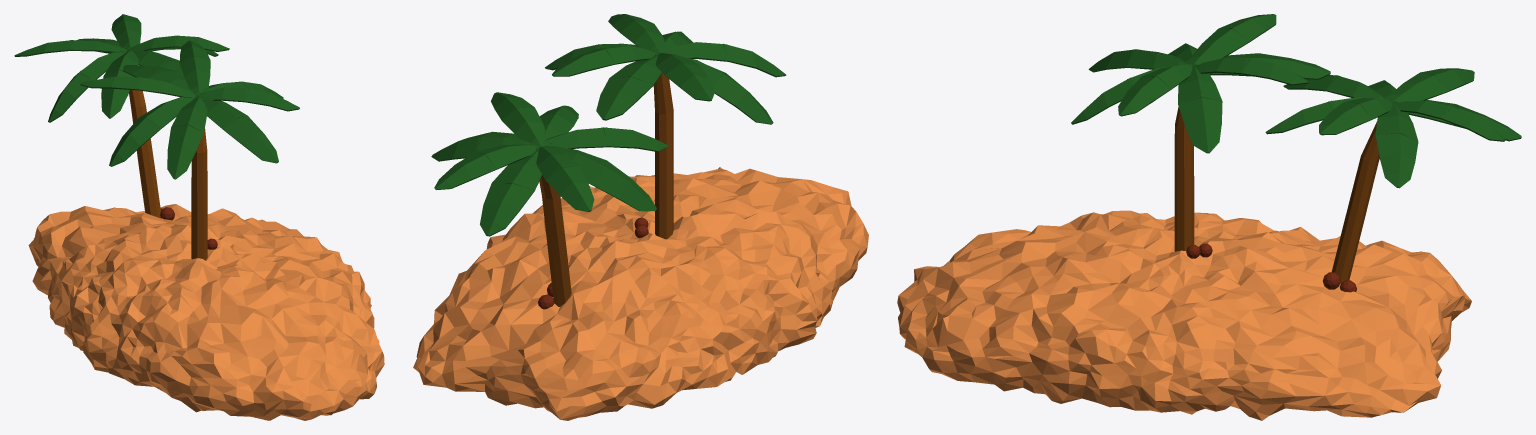
The model's file is ilha.fbx.
3 renders of one model, left to right at view 1: azimuth 30°, elevation 25°; view 2: azimuth 150°, elevation 25°; view 3: azimuth 270°, elevation 25°, orthographic. The views are drawn at different scales.
Visible parts, largest first — view 1: chao, folha7, folha2, arvore, folha, arvore.001, folha.001, folha5, folha6, folha3, folha7.001, folha5.001 (+5 smaller); view 2: chao, arvore, folha4.001, folha4, arvore.001, folha.001, folha5.001, folha3.001, folha7.001, folha7, folha6.001, folha5 (+6 smaller); view 3: chao, folha1, arvore.001, folha1.001, arvore, folha5, folha6, folha5.001, folha6.001, folha3, folha3.001, folha7 (+5 smaller).
Part boxes in pixels (x1,y1,x2,y2): chao: (28, 204, 384, 420); folha7: (167, 96, 207, 179); folha2: (193, 92, 278, 163); arvore: (191, 128, 207, 260); folha: (109, 92, 197, 166); arvore.001: (129, 90, 160, 218); folha.001: (48, 48, 128, 122); folha5: (80, 76, 195, 97); folha6: (195, 87, 299, 111); folha3: (179, 40, 210, 92); folha7.001: (101, 50, 138, 118); folha5.001: (14, 40, 126, 56); chao: (413, 167, 868, 420); arvore: (653, 73, 673, 239); folha4.001: (480, 150, 542, 236); folha4: (596, 55, 662, 120); arvore.001: (539, 175, 571, 306); folha.001: (537, 145, 656, 211); folha5.001: (536, 146, 594, 211); folha3.001: (434, 144, 535, 189); folha7.001: (543, 127, 668, 151); folha7: (662, 42, 786, 77); folha6.001: (491, 92, 547, 146); folha5: (655, 53, 715, 101); chao: (897, 210, 1471, 420); folha1: (1178, 65, 1222, 153); arvore.001: (1331, 121, 1379, 283); folha1.001: (1375, 102, 1418, 188); arvore: (1174, 107, 1194, 251); folha5: (1189, 14, 1276, 64); folha6: (1118, 64, 1192, 116); folha5.001: (1389, 68, 1474, 102); folha6.001: (1319, 98, 1392, 135); folha3: (1194, 57, 1308, 85); folha3.001: (1395, 100, 1505, 141); folha7: (1088, 49, 1187, 72).
Size of the model in its own units: 219 by 195 by 372.
